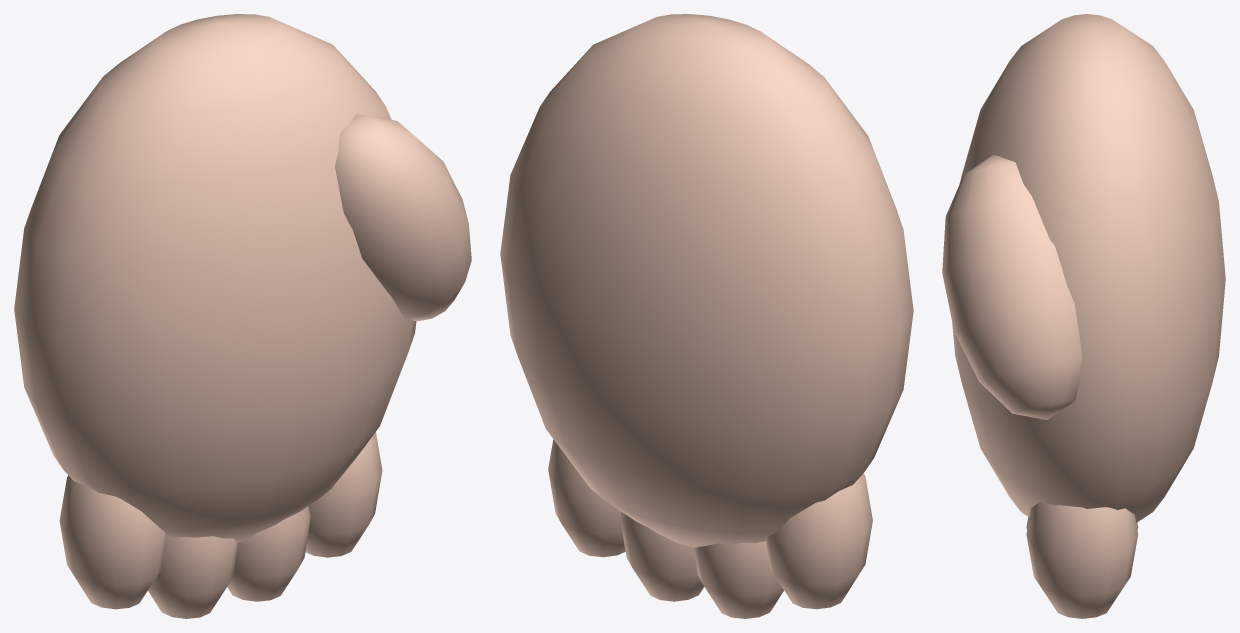
Rendered from char_hand.glb.
3 renders of one model, left to right at view 1: azimuth 30°, elevation 25°; view 2: azimuth 150°, elevation 25°; view 3: azimuth 270°, elevation 25°, orthographic. The views are drawn at different scales.
Visible parts, largest first — view 1: Sphere; view 2: Sphere; view 3: Sphere.
Boxes of the visible parts, box(x1,y1,x2,y2) form: Sphere: box(14, 14, 471, 618); Sphere: box(500, 14, 913, 618); Sphere: box(942, 14, 1225, 618).
Size of the model in its own units: 1.9 by 2.61 by 1.19.
